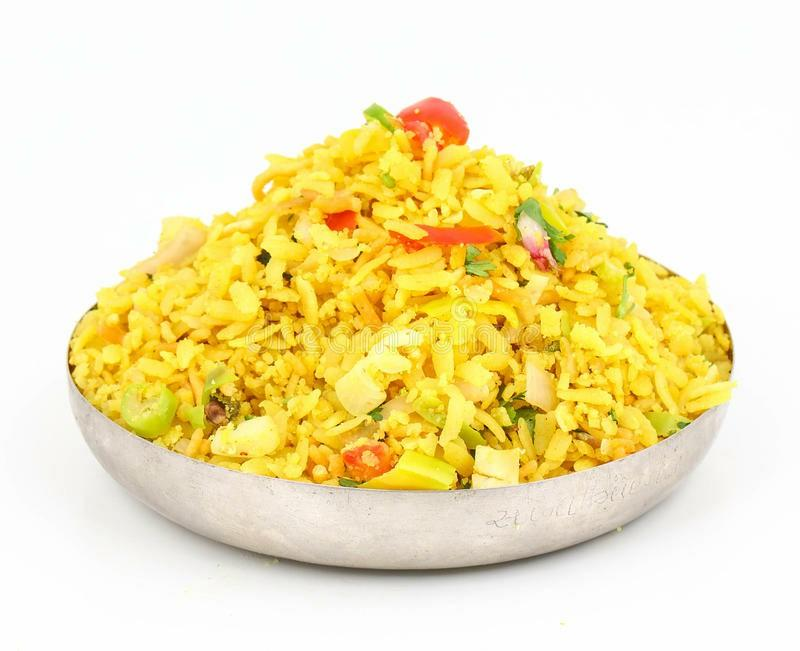Poha: (72, 92, 735, 485)
